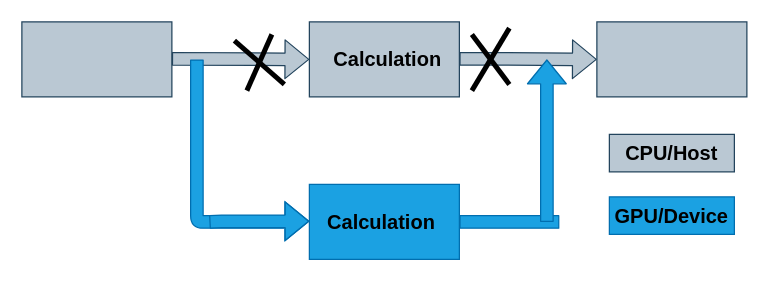
The diagram is 769 pixels wide and 281 high, and some of its shapes have lost their labels. Each missing label, with the centre of its shape:
"Input" belongs at pixel 96 59.
"Result" belongs at pixel 671 59.
